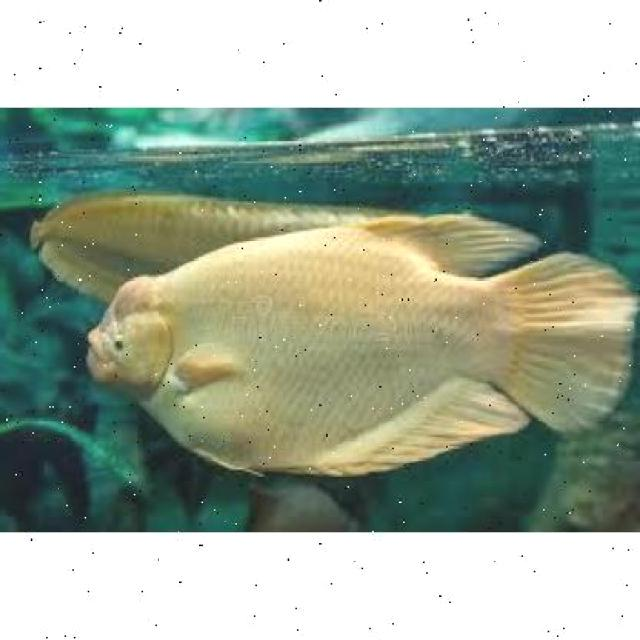gurame: (87, 222, 630, 470)
